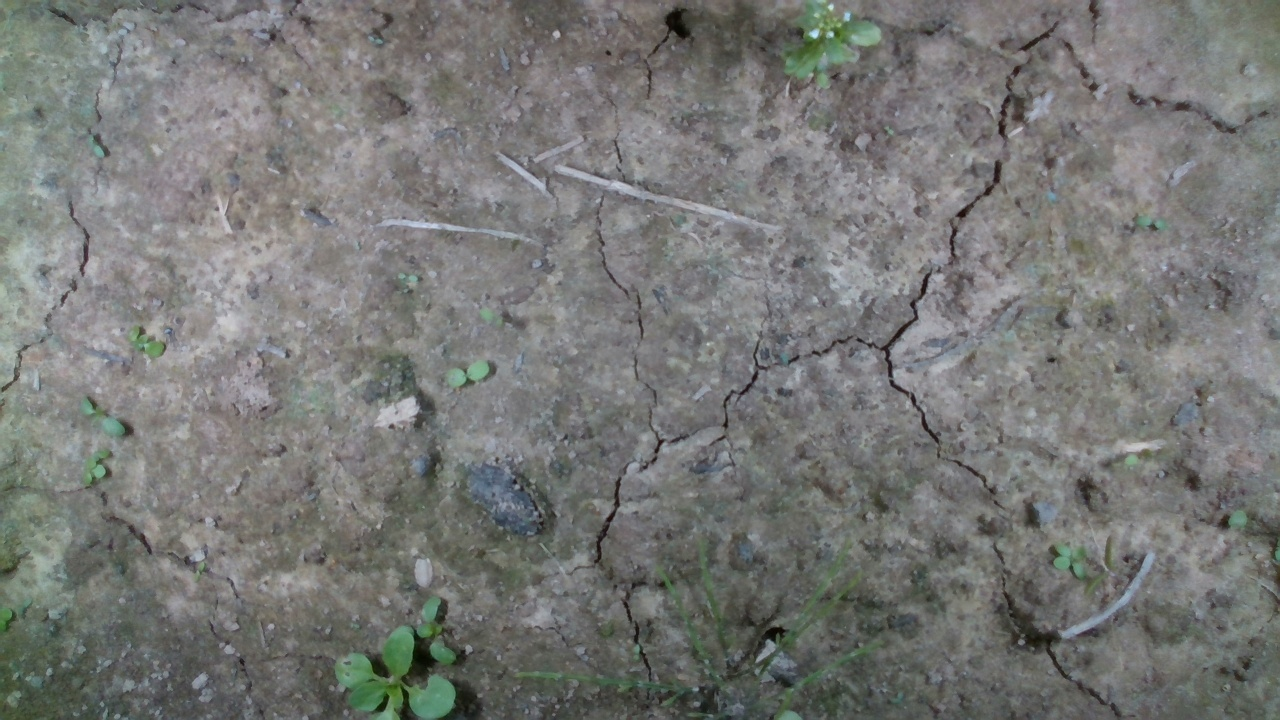weed: (78, 396, 127, 438), (1051, 540, 1089, 581), (443, 357, 490, 389), (125, 324, 166, 359), (1131, 215, 1167, 231)
